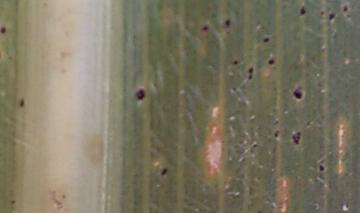tarspot: (133, 87, 146, 103), (291, 86, 303, 102), (290, 130, 301, 146), (17, 96, 26, 110), (157, 166, 168, 177), (341, 200, 352, 211), (298, 3, 306, 17), (327, 11, 336, 23), (266, 56, 276, 66), (272, 128, 280, 140), (1, 24, 8, 37), (199, 24, 209, 33), (223, 18, 232, 28), (316, 163, 325, 173), (341, 3, 349, 14), (8, 198, 19, 205), (261, 35, 270, 43), (246, 66, 254, 75), (318, 9, 326, 17), (231, 59, 240, 66), (250, 142, 257, 151), (246, 74, 253, 81), (253, 209, 263, 213), (230, 85, 236, 91)
